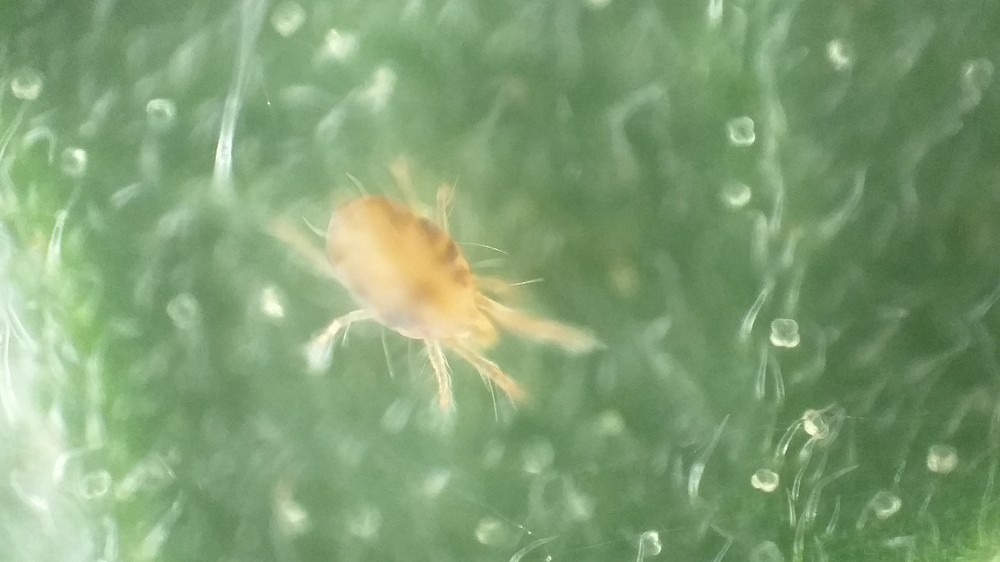Aracnido Rojo: (240, 148, 630, 448)
